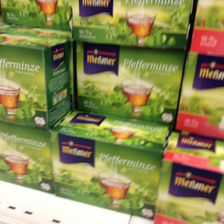tea: (51, 111, 166, 220), (75, 42, 185, 127), (1, 34, 69, 129), (71, 1, 192, 50)
